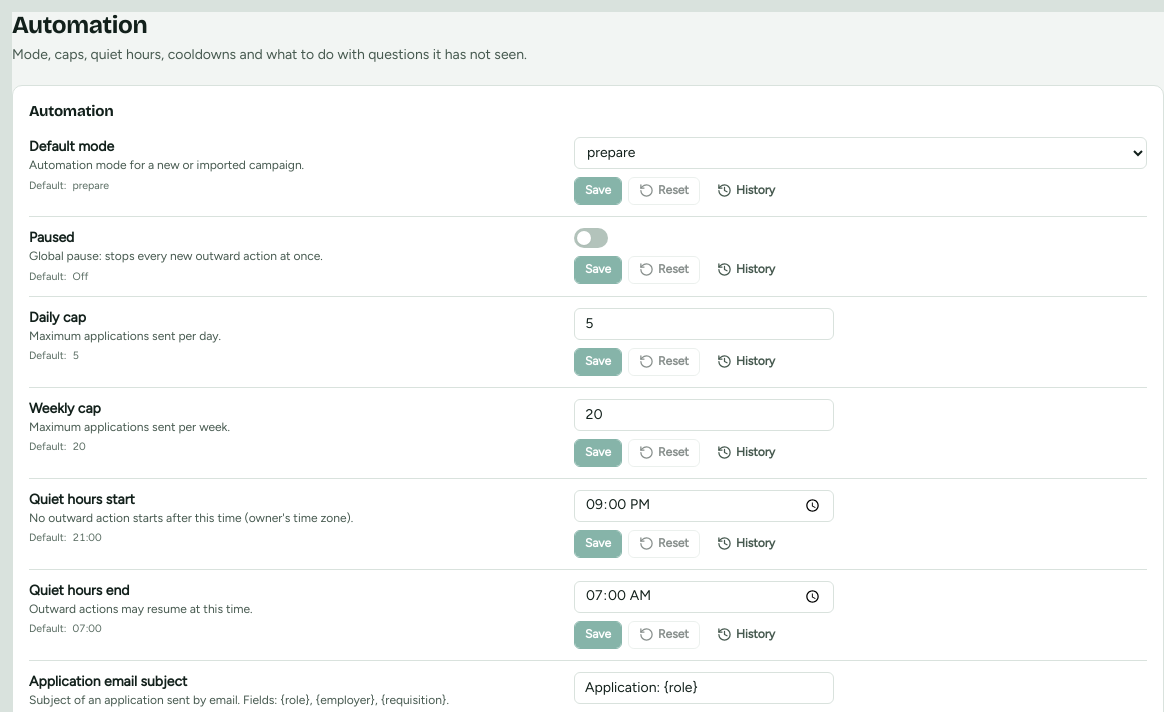
Test: renderer by value type › draws a switch, a select, checkboxes, a time and a number from metadata alone
The image size is (1164, 712).
Check: the field labelled "Daily cap" holds "5", box [574,308,834,340]
Click the switch named "Paused": click(591, 238) [574,228,608,248]
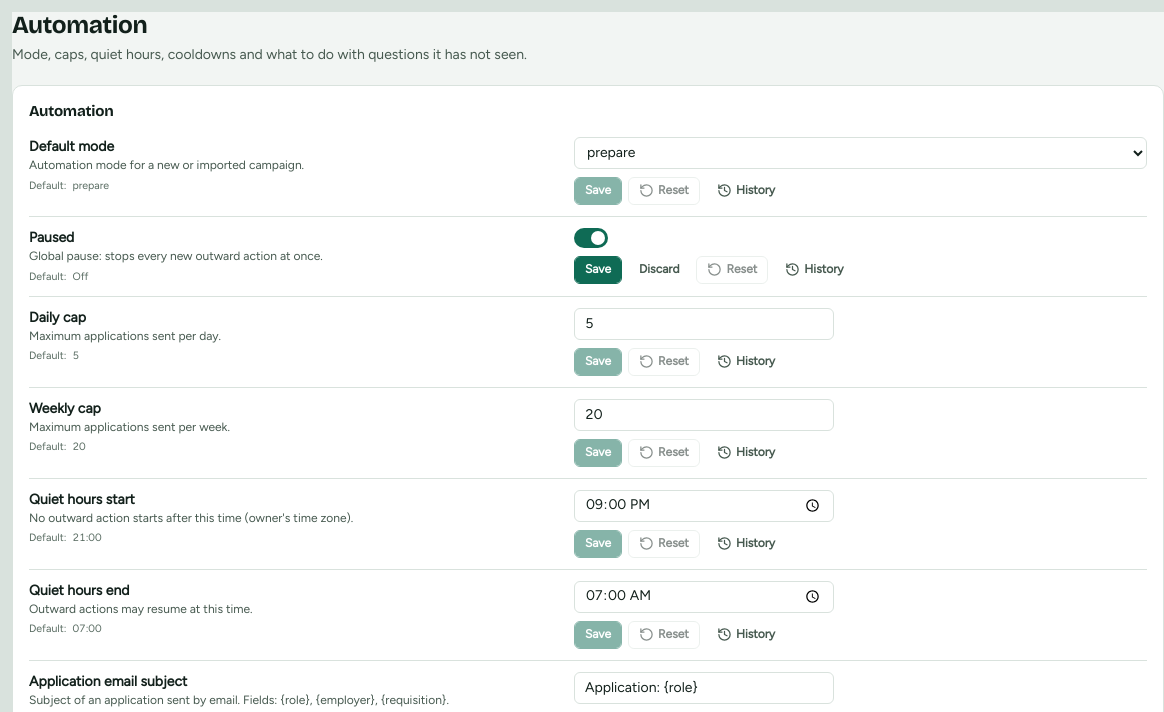
Click the button with aria-label "Save Paused": click(598, 270) [574,256,622,284]
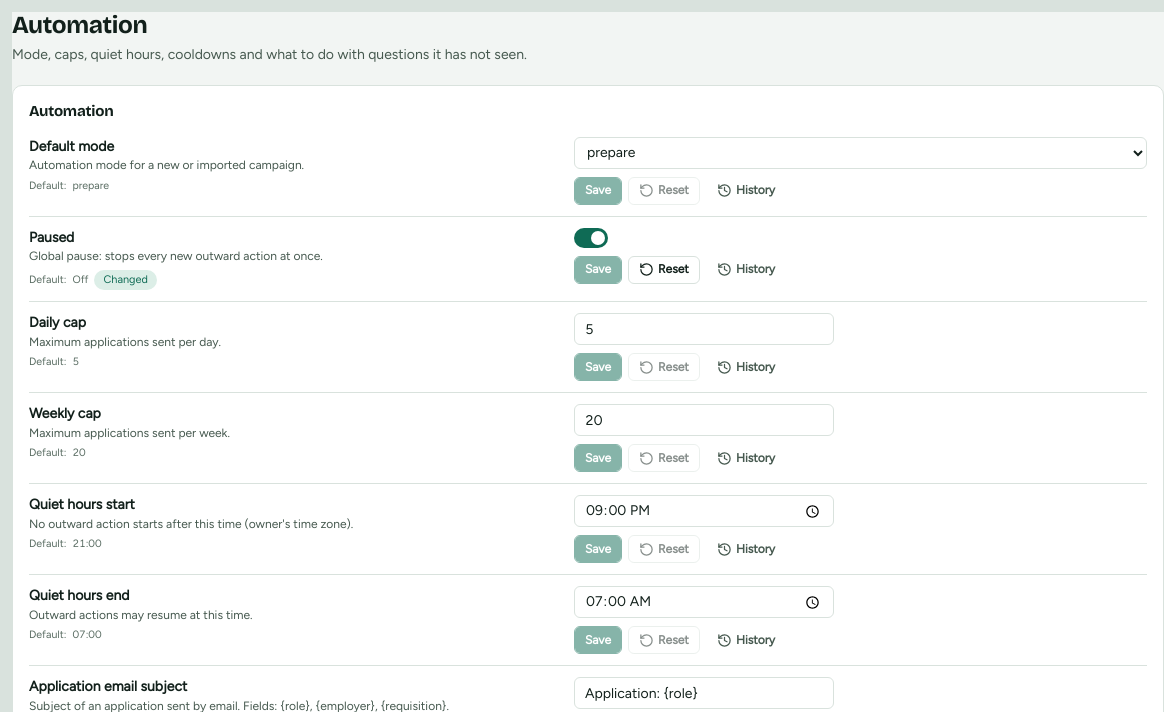
Check: the button with aria-label "Reset Paused to default" is enabled, box [628,256,700,284]
